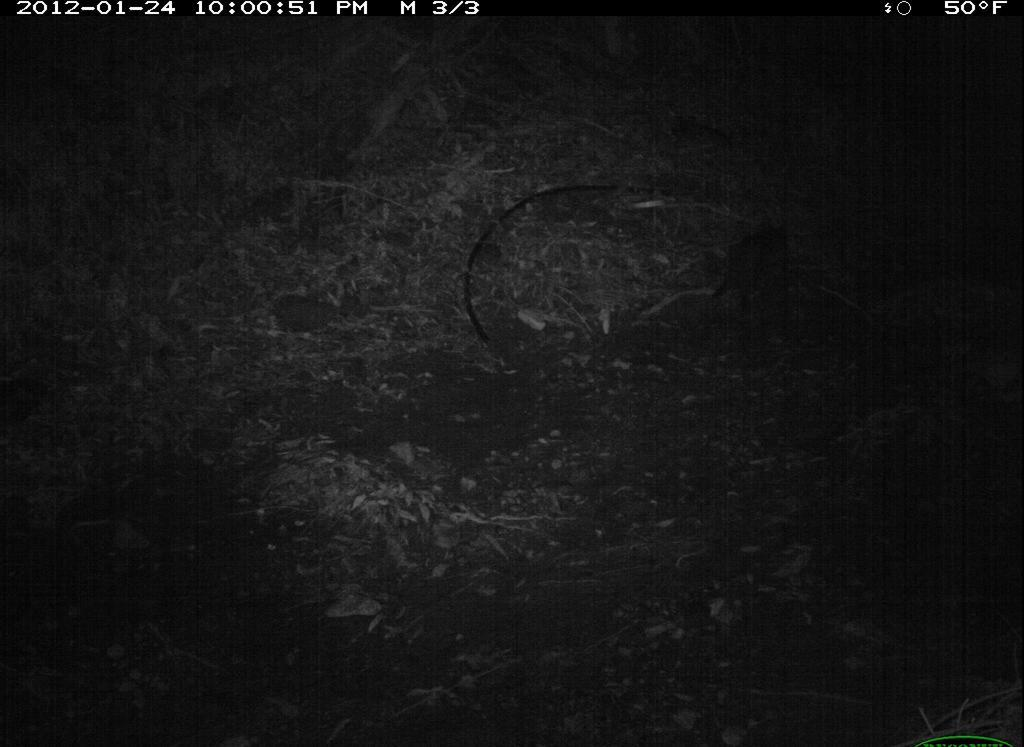opossum: (708, 220, 804, 315)
